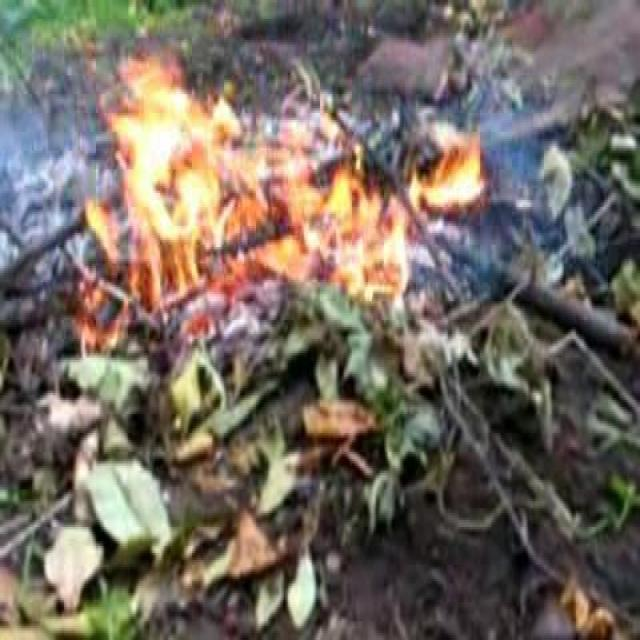fire: (39, 3, 526, 393)
